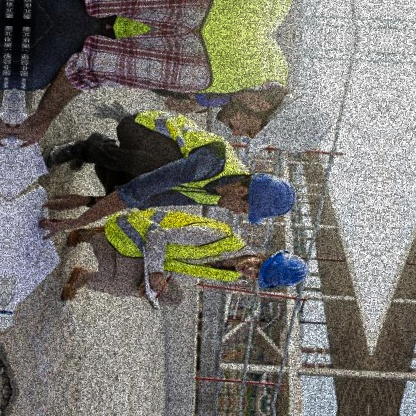blue: (240, 165, 304, 230), (257, 244, 315, 296)
vest: (130, 106, 252, 211), (100, 204, 253, 287)
white: (245, 90, 339, 159)
